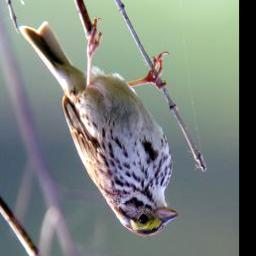Sparrow: (18, 17, 180, 238)
